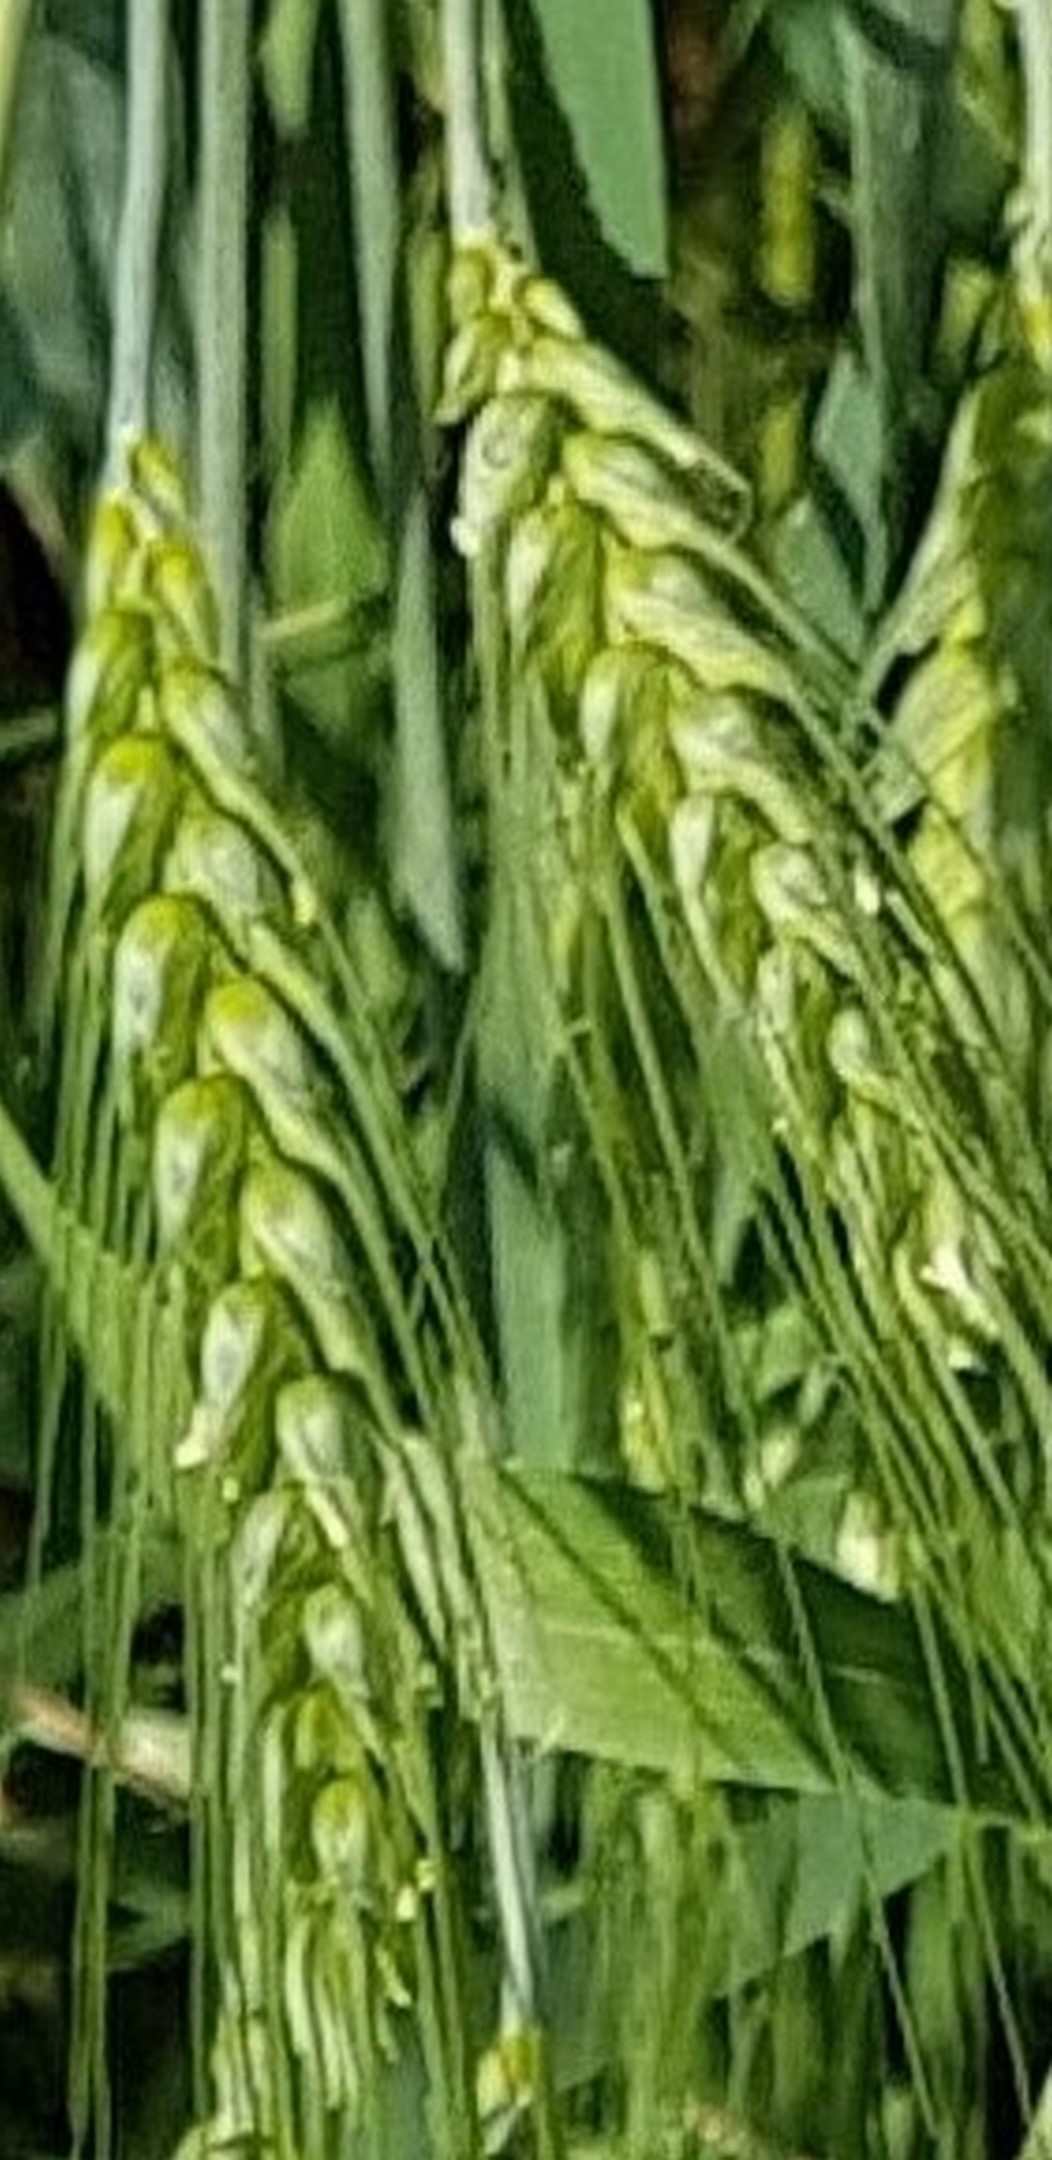Healthy Wheat: (439, 304, 1052, 1338)
